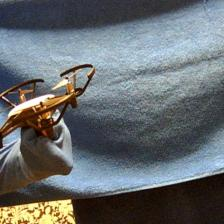drone: (2, 62, 96, 147)
